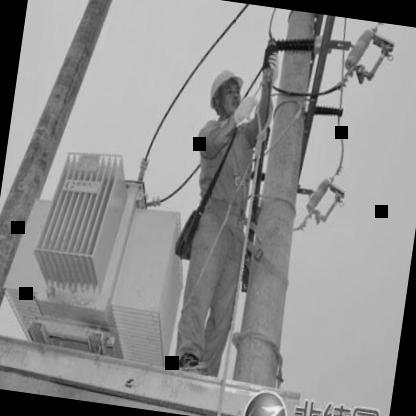helmet: (205, 60, 249, 124)
